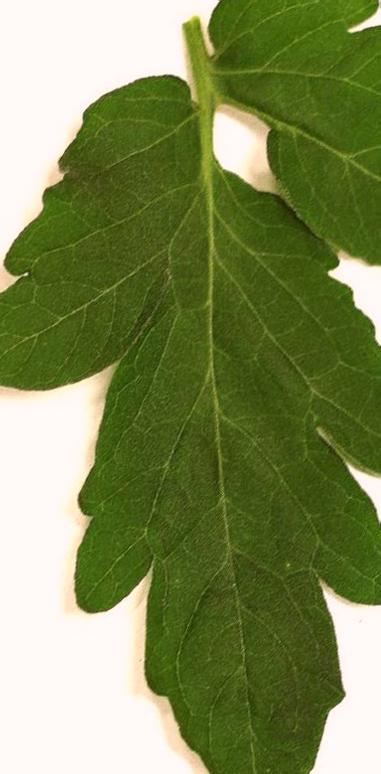Tomato leaf: (0, 67, 381, 774), (213, 0, 381, 298)
